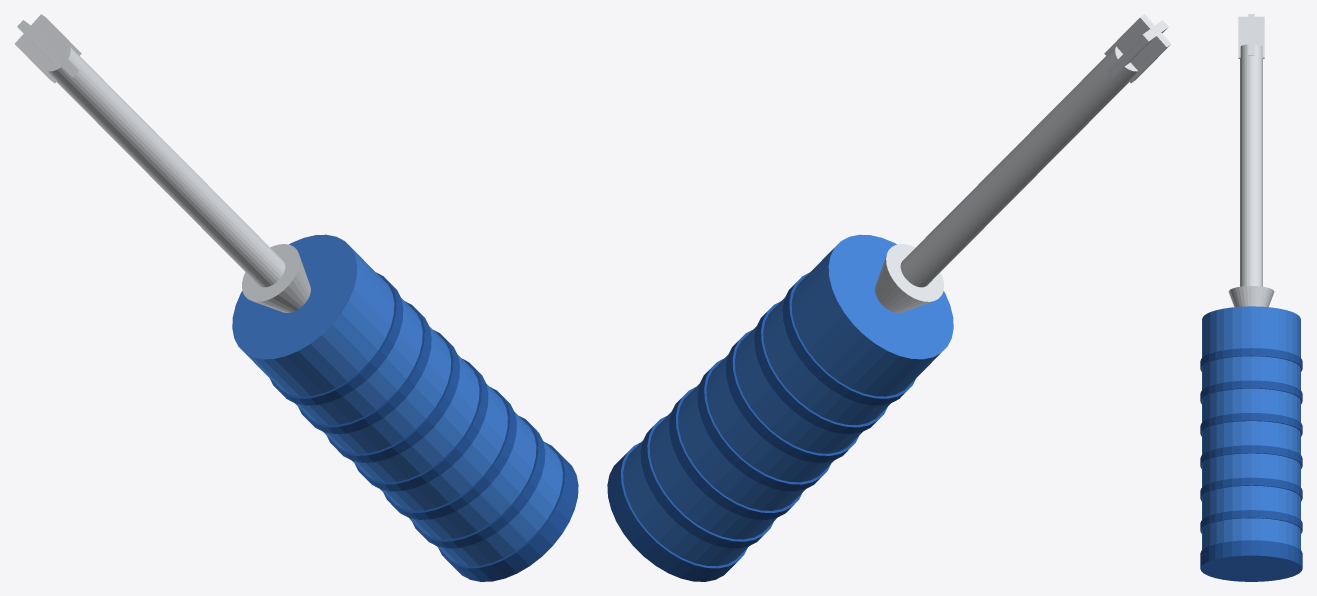
File: destornillador_estrella.glb
3 renders of one model, left to right at view 1: azimuth 30°, elevation 25°; view 2: azimuth 150°, elevation 25°; view 3: azimuth 270°, elevation 25°, orthographic. The views are drawn at different scales.
Parts seen in each view (by area): view 1: Mango, Vastago, Tapa_mango, Hombro, Estria_02, Estria_01, Estria_03, Estria_04, Estria_05, Estria_00, Punta_cruz_Y, Punta_cruz_Z; view 2: Mango, Vastago, Tapa_mango, Hombro, Estria_02, Estria_01, Estria_03, Estria_04, Estria_05, Estria_00, Punta_cruz_Y, Punta_cruz_Z; view 3: Mango, Vastago, Tapa_mango, Estria_00, Estria_05, Estria_02, Estria_01, Estria_04, Estria_03, Hombro, Punta_cruz_Z, Punta_cruz_Y.
Boxes of the visible parts, x1=… form: Mango: x1=232, y1=234, x2=562, y2=566; Vastago: x1=47, y1=46, x2=285, y2=287; Tapa_mango: x1=438, y1=442, x2=578, y2=581; Hombro: x1=242, y1=244, x2=310, y2=312; Estria_02: x1=355, y1=358, x2=488, y2=491; Estria_01: x1=383, y1=387, x2=516, y2=519; Estria_03: x1=327, y1=330, x2=459, y2=462; Estria_04: x1=298, y1=301, x2=431, y2=433; Estria_05: x1=270, y1=272, x2=403, y2=405; Estria_00: x1=412, y1=416, x2=545, y2=548; Punta_cruz_Y: x1=15, y1=14, x2=81, y2=83; Punta_cruz_Z: x1=17, y1=20, x2=78, y2=77; Mango: x1=623, y1=234, x2=953, y2=566; Vastago: x1=900, y1=46, x2=1138, y2=287; Tapa_mango: x1=607, y1=442, x2=747, y2=581; Hombro: x1=875, y1=244, x2=943, y2=312; Estria_02: x1=697, y1=358, x2=830, y2=491; Estria_01: x1=669, y1=387, x2=802, y2=519; Estria_03: x1=726, y1=330, x2=858, y2=462; Estria_04: x1=754, y1=301, x2=887, y2=433; Estria_05: x1=782, y1=272, x2=915, y2=405; Estria_00: x1=640, y1=416, x2=773, y2=548; Punta_cruz_Y: x1=1104, y1=14, x2=1170, y2=83; Punta_cruz_Z: x1=1107, y1=20, x2=1168, y2=77; Mango: x1=1202, y1=306, x2=1300, y2=549; Vastago: x1=1240, y1=44, x2=1262, y2=286; Tapa_mango: x1=1200, y1=540, x2=1302, y2=581; Estria_00: x1=1200, y1=510, x2=1302, y2=533; Estria_05: x1=1200, y1=348, x2=1302, y2=371; Estria_02: x1=1200, y1=445, x2=1302, y2=468; Estria_01: x1=1200, y1=477, x2=1302, y2=501; Estria_04: x1=1200, y1=380, x2=1302, y2=403; Estria_03: x1=1200, y1=413, x2=1302, y2=436; Hombro: x1=1228, y1=286, x2=1274, y2=307; Punta_cruz_Z: x1=1238, y1=16, x2=1264, y2=58; Punta_cruz_Y: x1=1248, y1=14, x2=1254, y2=55.
Size of the model in its own units: 2.36 by 2.72 by 0.58.
